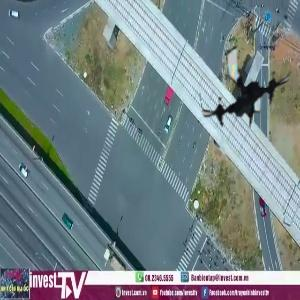drone: (196, 34, 298, 136)
